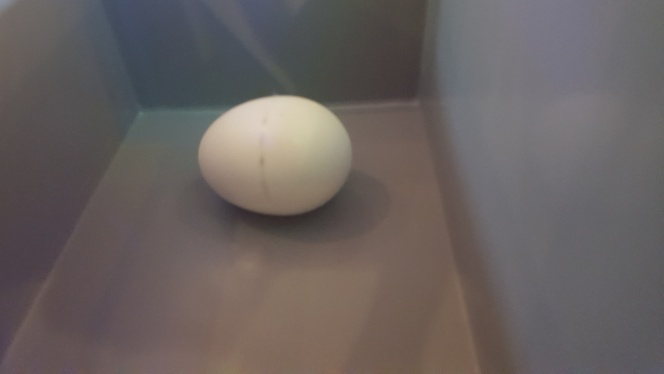egg: (198, 93, 354, 222)
